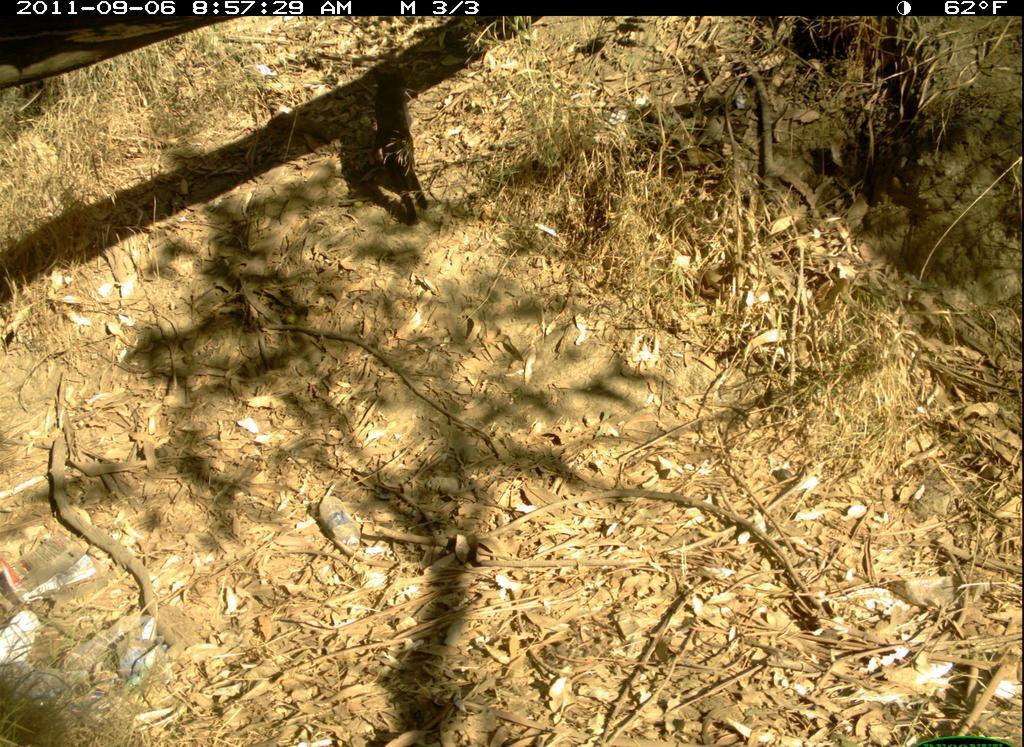cat: (360, 46, 446, 239)
